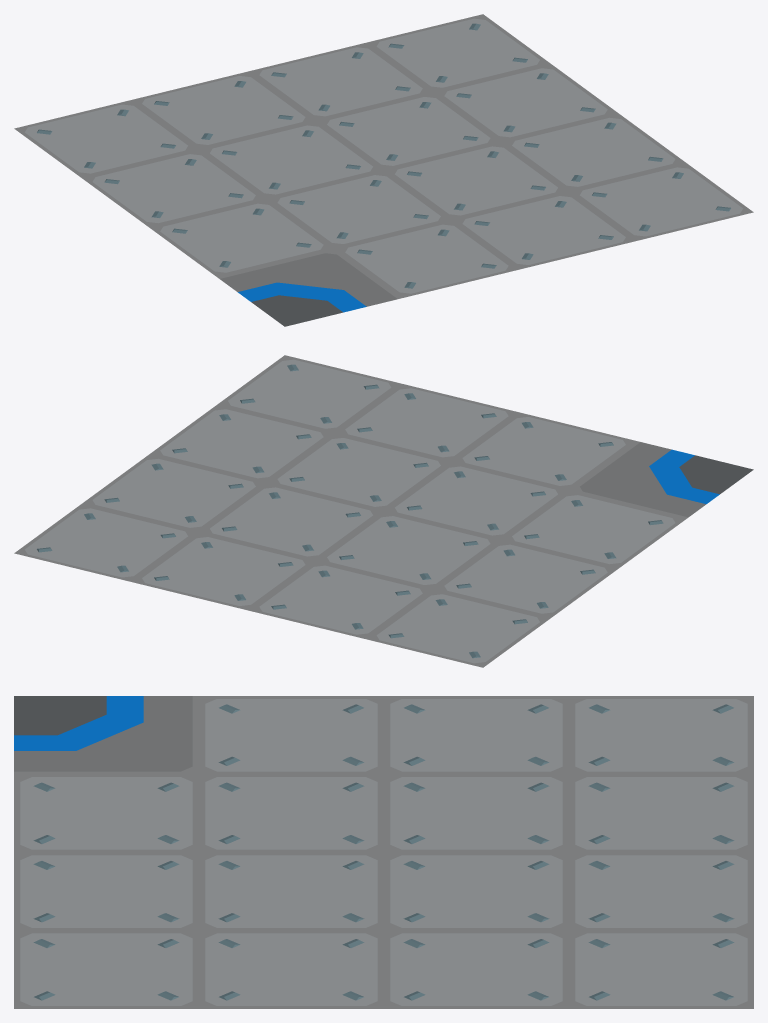
The model's file is Floor_type_B_010.glb.
The picture shows the model from 3 angles, top to bottom: view 1: azimuth 30°, elevation 25°; view 2: azimuth 150°, elevation 25°; view 3: azimuth 270°, elevation 25°; orthographic projection. The views are drawn at different scales.
Parts seen in each view (by area): view 1: Floor_type_B_010; view 2: Floor_type_B_010; view 3: Floor_type_B_010.
Part boxes in pixels (x1,y1,x2,y2): Floor_type_B_010: (14, 14, 753, 326); Floor_type_B_010: (14, 355, 753, 667); Floor_type_B_010: (14, 696, 753, 1008).
Size of the model in its own units: 4 by 0.008 by 4.
Materials: 2 (2 with a texture image).
